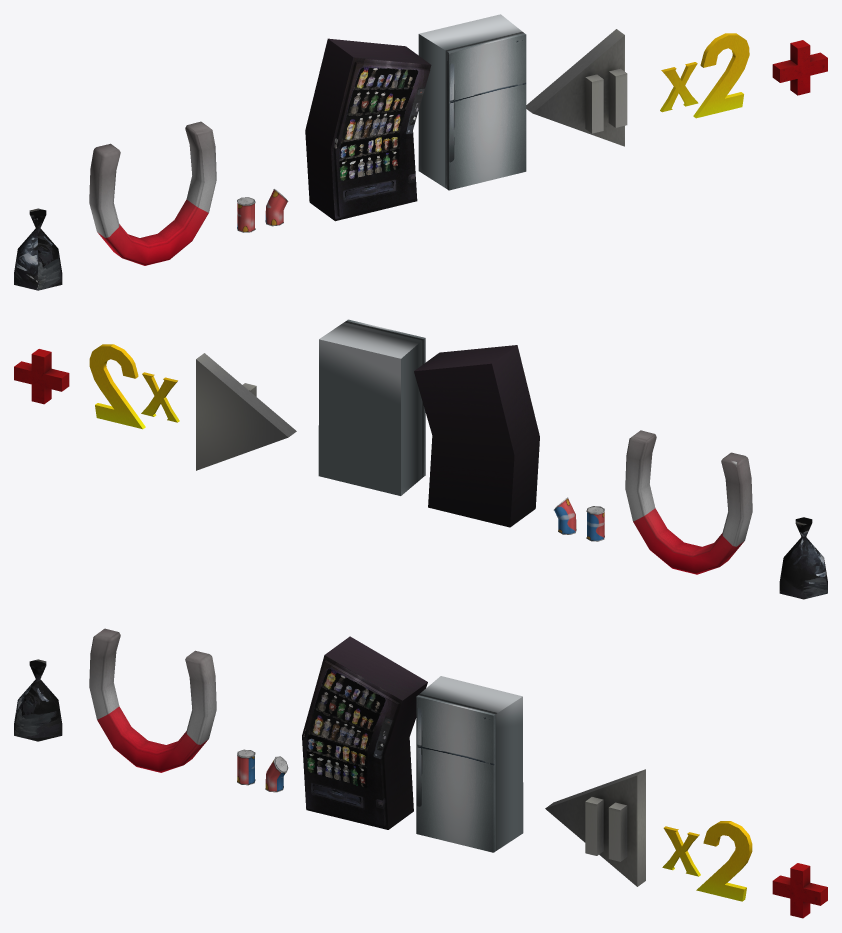
The model's file is ThrowupsMesh2.fbx.
3 views of the same model, one above another, from view 1: azimuth 30°, elevation 25°; view 2: azimuth 150°, elevation 25°; view 3: azimuth 330°, elevation 25° (orthographic).
Parts seen in each view (by area): view 1: VendingMachine, Fridge, Magnet, Pause, Multiplayer, GarbageBag, Health, Can1, Can2; view 2: VendingMachine, Fridge, Magnet, Pause, Multiplayer, GarbageBag, Health, Can1, Can2; view 3: VendingMachine, Fridge, Magnet, Pause, Multiplayer, GarbageBag, Health, Can2, Can1.
Part boxes in pixels (bbox=[...]): VendingMachine: bbox=[305, 38, 431, 221]; Fridge: bbox=[418, 14, 526, 190]; Magnet: bbox=[89, 121, 216, 265]; Pause: bbox=[526, 29, 627, 146]; Multiplayer: bbox=[660, 33, 749, 118]; GarbageBag: bbox=[14, 208, 62, 290]; Health: bbox=[772, 40, 827, 95]; Can1: bbox=[237, 197, 255, 232]; Can2: bbox=[265, 189, 288, 226]; VendingMachine: bbox=[414, 345, 539, 527]; Fridge: bbox=[318, 319, 425, 495]; Magnet: bbox=[625, 430, 752, 574]; Pause: bbox=[196, 353, 296, 470]; Multiplayer: bbox=[89, 344, 179, 429]; GarbageBag: bbox=[779, 517, 827, 599]; Health: bbox=[14, 349, 69, 404]; Can1: bbox=[586, 506, 604, 541]; Can2: bbox=[553, 497, 576, 534]; VendingMachine: bbox=[302, 636, 427, 829]; Fridge: bbox=[416, 676, 523, 852]; Magnet: bbox=[89, 628, 216, 772]; Pause: bbox=[545, 769, 645, 886]; Multiplayer: bbox=[662, 821, 752, 901]; GarbageBag: bbox=[14, 659, 62, 741]; Health: bbox=[772, 863, 827, 918]; Can2: bbox=[265, 756, 288, 792]; Can1: bbox=[237, 749, 255, 785].
Size of the model in its own units: 39.73 by 8.24 by 2.63.
